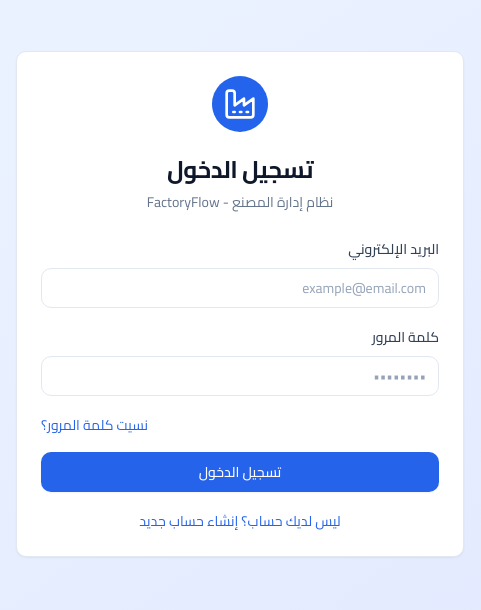
LoginPage › Rate Limiting › blocks login attempts when locked out
Type "test@example.com" into the field labelled "البريد الإلكتروني".
click(240, 288); type("test@example.com")  # box [41,268,439,308]
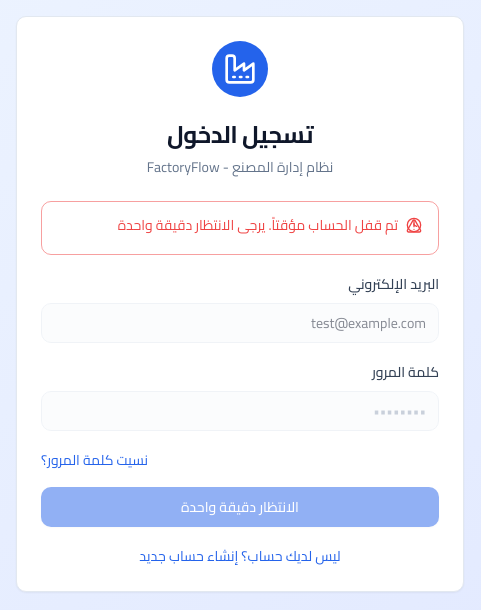
Check: the button "الانتظار دقيقة واحدة" is shown, box [41,487,439,527]
